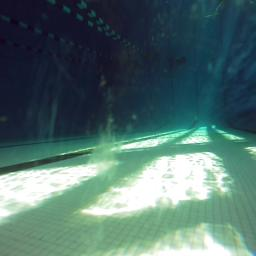Full: (176, 54, 187, 66)
